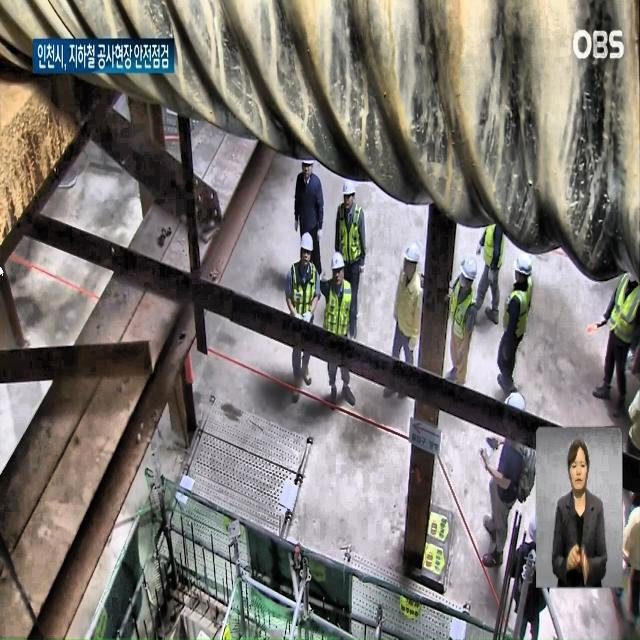safety_helmet: (512, 254, 542, 298), (300, 231, 320, 270), (461, 249, 481, 284), (342, 169, 361, 203), (404, 239, 424, 270), (331, 248, 346, 274)
safety_jacket: (317, 278, 361, 358), (282, 249, 312, 336), (509, 289, 535, 371), (336, 204, 370, 266), (446, 292, 472, 368), (606, 282, 632, 353)
